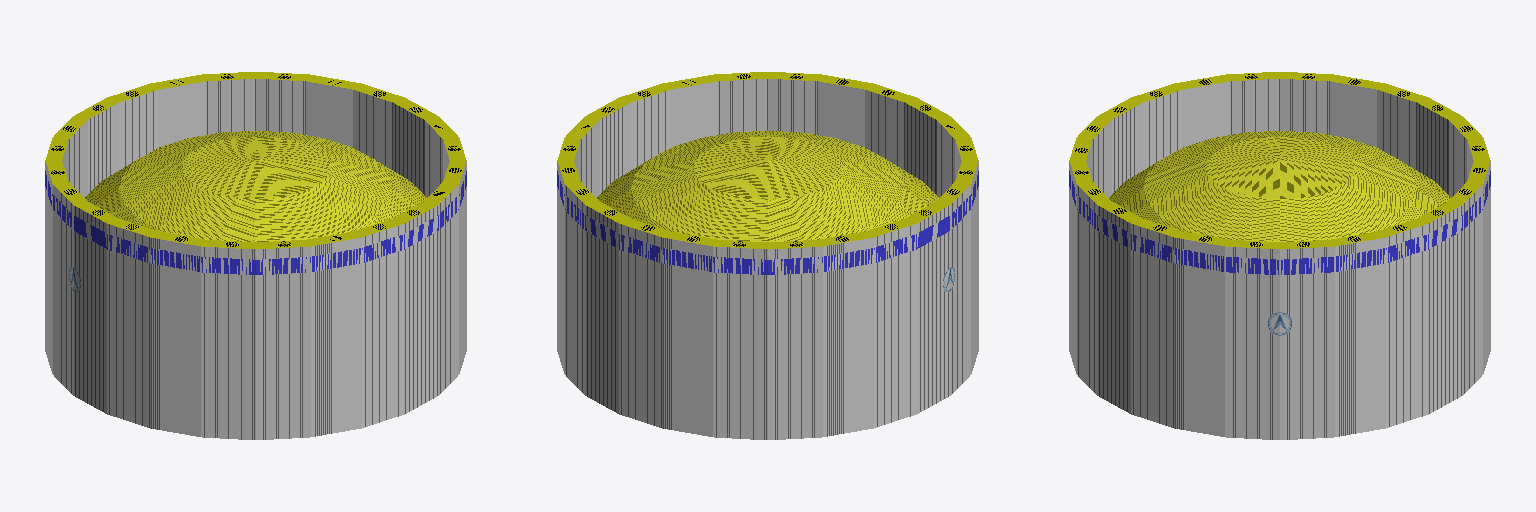
The picture shows the model from 3 angles: view 1: azimuth 30°, elevation 25°; view 2: azimuth 150°, elevation 25°; view 3: azimuth 270°, elevation 25°; orthographic projection.
Visible parts, largest first — view 1: Tube1, Sphere1; view 2: Tube1, Sphere1; view 3: Tube1, Sphere1.
Boxes of the visible parts, x1,y1,x2,y2 form: Tube1: [45, 72, 466, 439]; Sphere1: [85, 131, 426, 241]; Tube1: [557, 72, 978, 439]; Sphere1: [597, 131, 938, 241]; Tube1: [1069, 72, 1490, 439]; Sphere1: [1109, 131, 1450, 241].
Size of the model in its own units: 1.25 by 0.625 by 1.25.
2 materials, 2 textured.